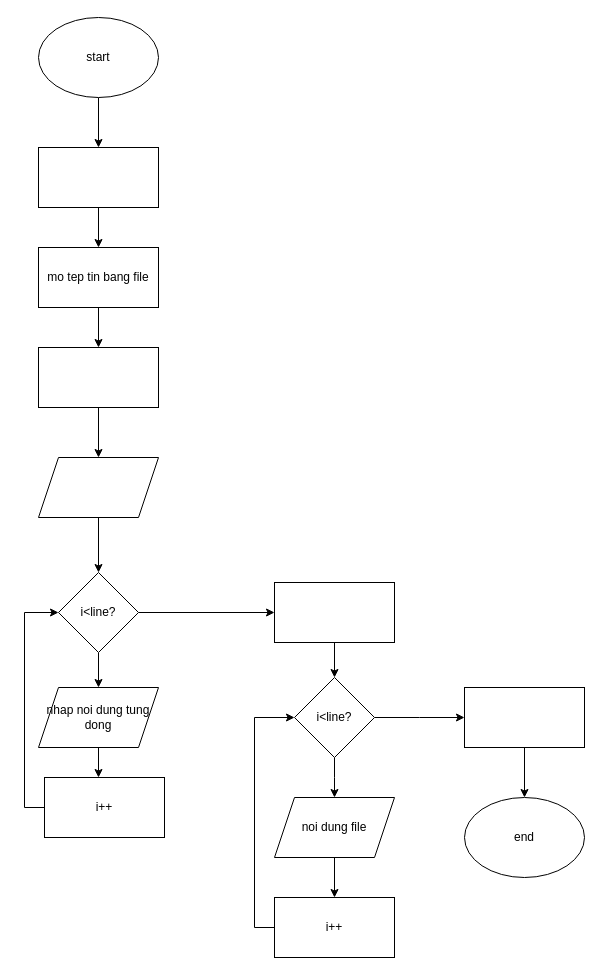
The diagram is 602 pixels wide and 975 high, and some of its shapes have lost their labels. Each missing label, with the box of its shape:
fclose(file): (464, 686, 584, 748)
FILE *file; int line; char content[50];: (38, 146, 158, 208)
kiem tra tep tin co mo khong: (38, 346, 158, 408)
line: (38, 456, 158, 518)
mo file de doc kiem tra file mo duoc khong: (274, 582, 394, 642)
